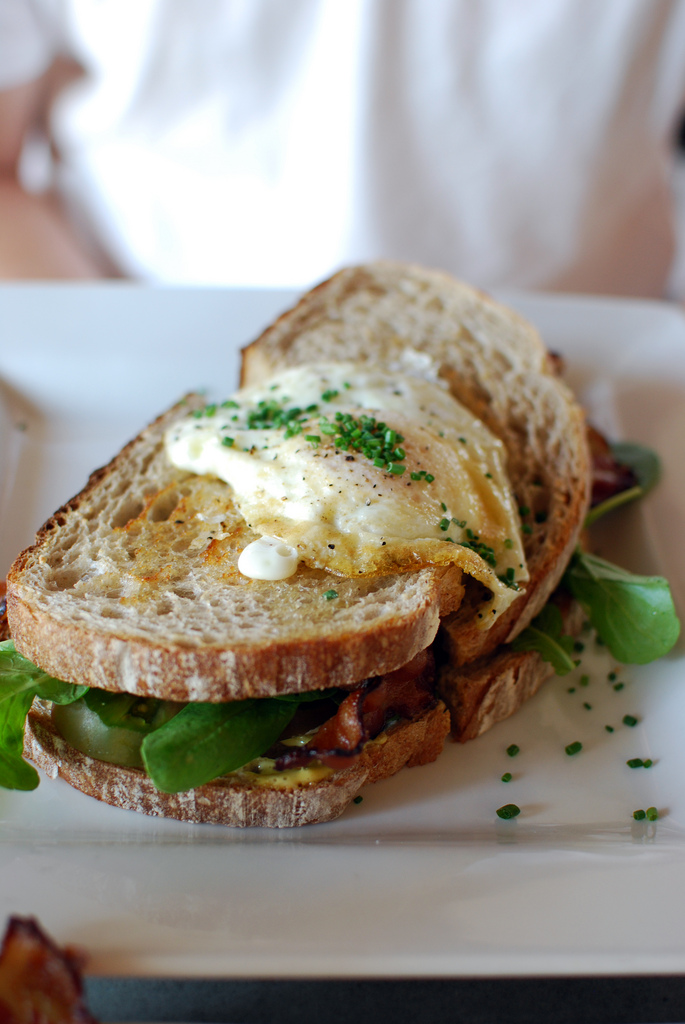slice of bread: (16, 568, 442, 678), (26, 734, 440, 821)
